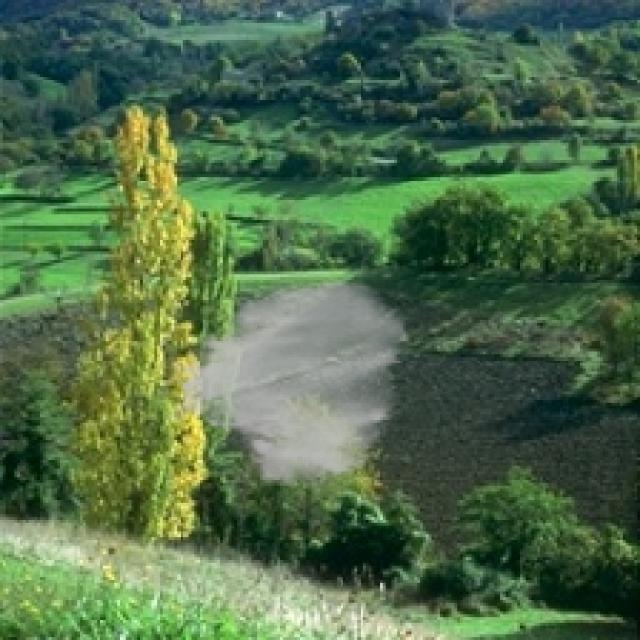Smoke: (163, 277, 414, 492)
